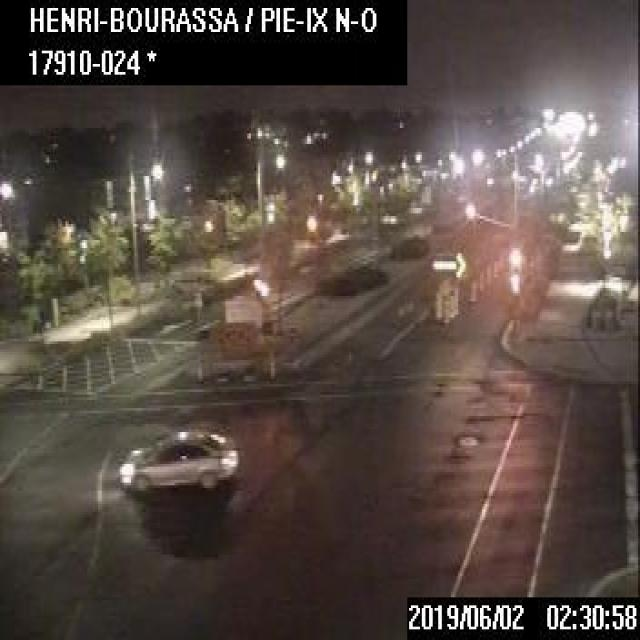construction: (192, 293, 274, 384), (430, 249, 464, 312), (441, 298, 449, 322), (468, 278, 476, 300), (452, 287, 458, 313), (435, 294, 440, 318), (484, 261, 489, 284), (448, 294, 453, 317), (478, 269, 482, 290)
vehicle: (116, 424, 238, 491)
